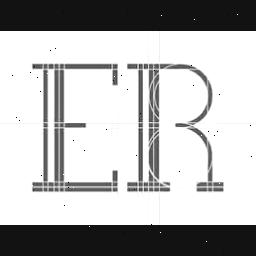e: (28, 56, 122, 194)
r: (124, 55, 226, 193)
